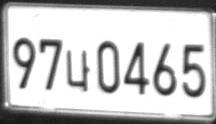0: (96, 40, 120, 93)
4: (123, 42, 149, 94)
5: (181, 44, 206, 97)
6: (152, 43, 177, 96)
7: (39, 38, 63, 89)
9: (13, 36, 36, 88)
나: (67, 50, 90, 91)
